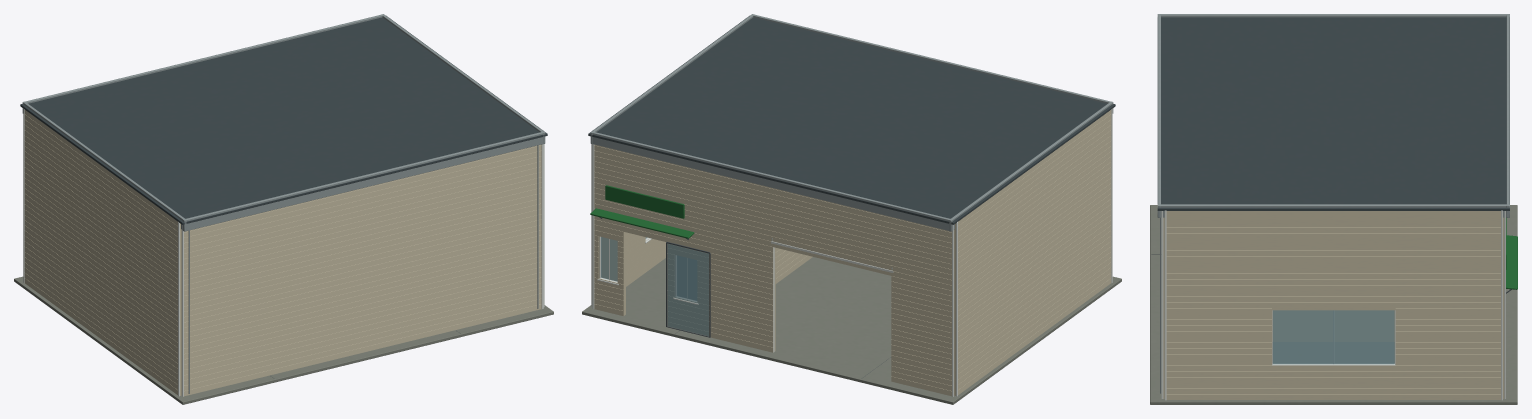
Rendered from SmallOffice.gltf.
3 renders of one model, left to right at view 1: azimuth 30°, elevation 25°; view 2: azimuth 150°, elevation 25°; view 3: azimuth 270°, elevation 25°, orthographic. The views are drawn at different scales.
Visible parts, largest first — view 1: SmallOffice__Body, SmallOffice__Roof, SmallOffice__Floor; view 2: SmallOffice__Body, SmallOffice__Roof, SmallOffice__Floor, SmallOffice__Glass_Door, SmallOffice, SmallOffice__Glass_OfficeFront1, SmallOffice__Glass_OfficeFront2, SmallOffice__Door; view 3: SmallOffice__Roof, SmallOffice__Body, SmallOffice__Floor, SmallOffice__Glass_OfficeSide, SmallOffice, SmallOffice__Walls.
Boxes of the visible parts, x1=… form: SmallOffice__Body: x1=22, y1=14, x2=545, y2=396; SmallOffice__Roof: x1=20, y1=15, x2=547, y2=224; SmallOffice__Floor: x1=14, y1=276, x2=553, y2=404; SmallOffice__Body: x1=590, y1=14, x2=1113, y2=396; SmallOffice__Roof: x1=588, y1=15, x2=1115, y2=224; SmallOffice__Floor: x1=582, y1=257, x2=1121, y2=404; SmallOffice__Glass_Door: x1=667, y1=244, x2=708, y2=335; SmallOffice: x1=599, y1=223, x2=955, y2=395; SmallOffice__Glass_OfficeFront1: x1=677, y1=256, x2=696, y2=300; SmallOffice__Glass_OfficeFront2: x1=601, y1=237, x2=617, y2=281; SmallOffice__Door: x1=666, y1=242, x2=710, y2=337; SmallOffice__Roof: x1=1157, y1=17, x2=1509, y2=210; SmallOffice__Body: x1=1151, y1=14, x2=1517, y2=400; SmallOffice__Floor: x1=1150, y1=205, x2=1517, y2=404; SmallOffice__Glass_OfficeSide: x1=1273, y1=310, x2=1394, y2=364; SmallOffice: x1=1272, y1=217, x2=1504, y2=398; SmallOffice__Walls: x1=1163, y1=217, x2=1164, y2=398.
Size of the model in its own units: 10.56 by 4.91 by 8.32.
Materials: 2 (1 with a texture image).
